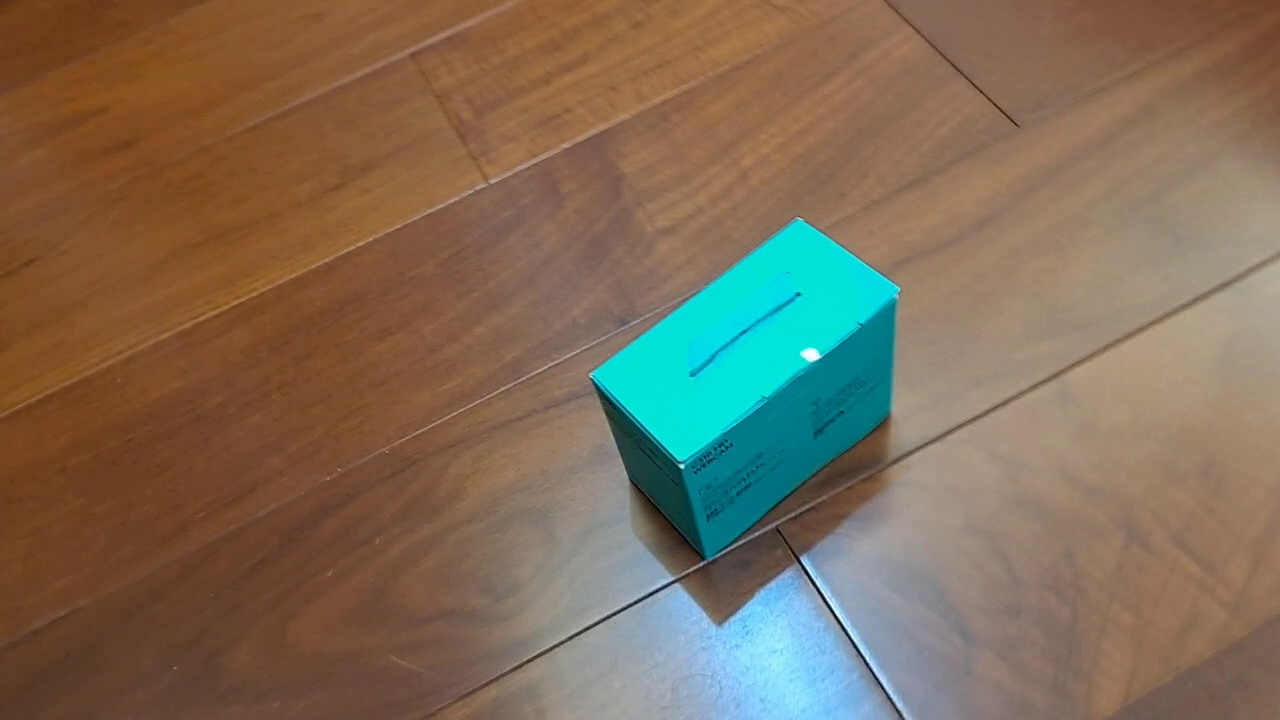webcam: (586, 213, 903, 564)
